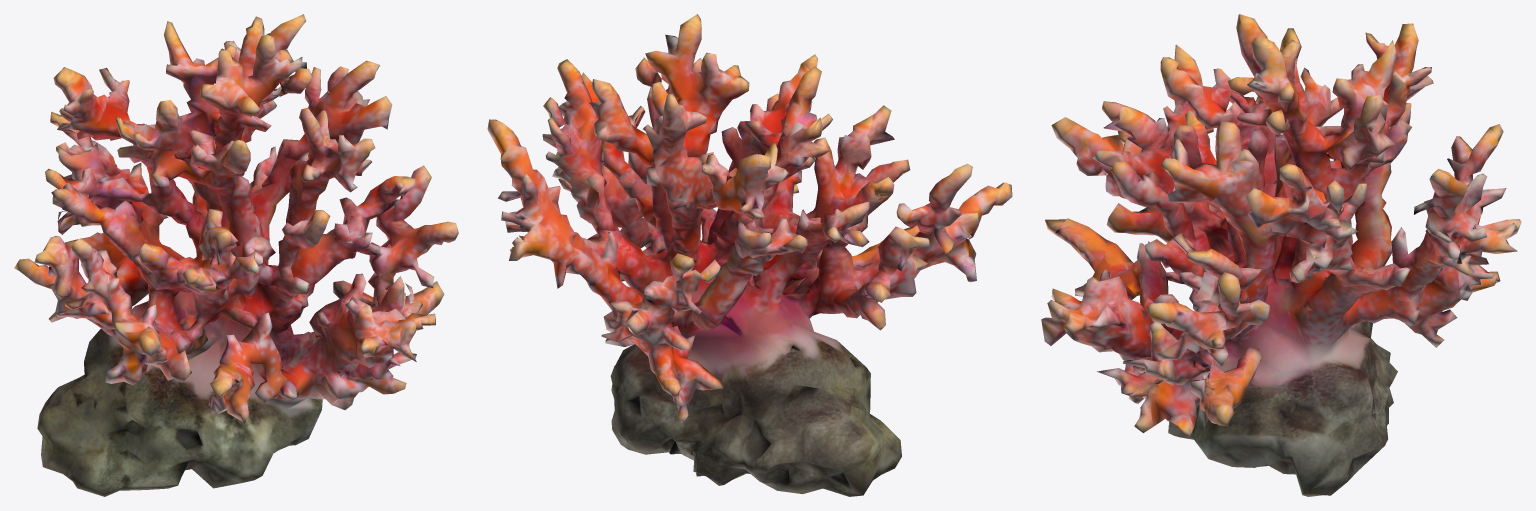
File: Meshy_AI_Orange_Branch_Coral_0607062454_texture.glb
3 renders of one model, left to right at view 1: azimuth 30°, elevation 25°; view 2: azimuth 150°, elevation 25°; view 3: azimuth 270°, elevation 25°, orthographic. The views are drawn at different scales.
Bounding box in the file's own units: 1.97 × 2 × 1.98.
Materials: 1 (1 with a texture image).
